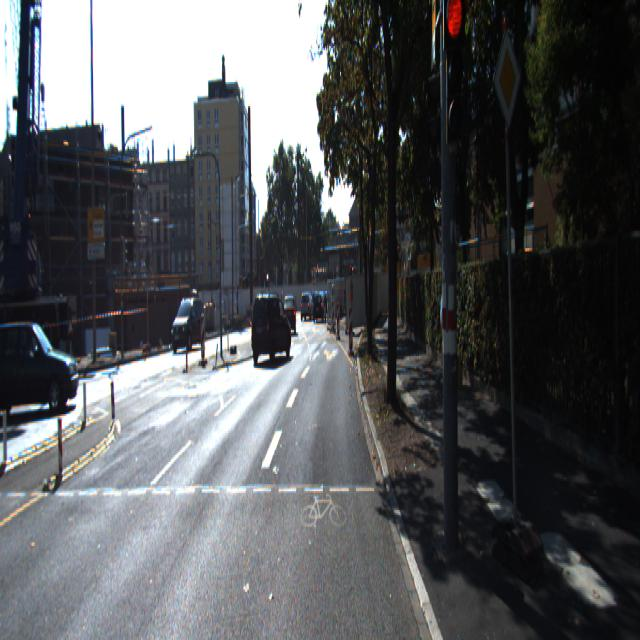Car: (0, 321, 83, 429), (249, 285, 293, 360), (170, 292, 205, 350), (282, 292, 295, 333)
